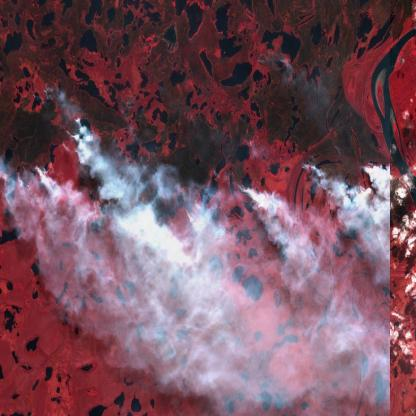fire: (0, 110, 416, 256)
